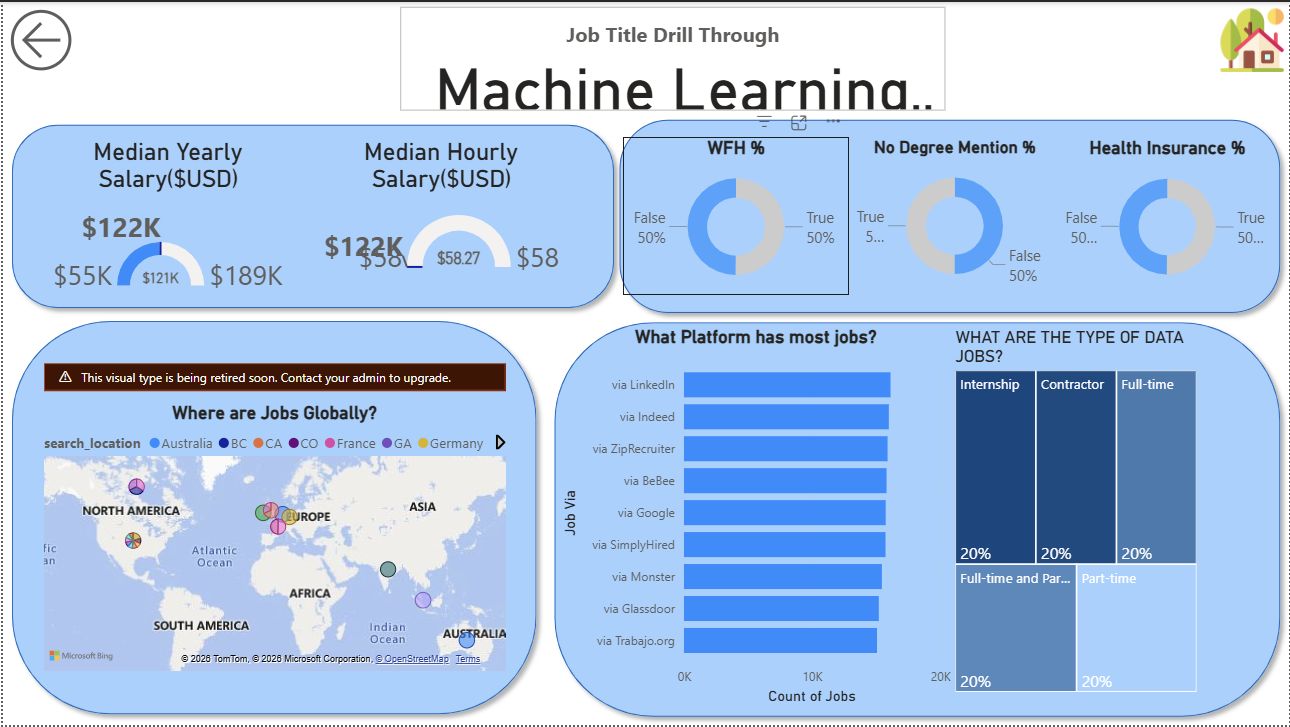

The dashboard page shown, as its layout file describes it:
{"tool":"powerbi","page":{"name":"Job Drill Through","canvas":[1280,720],"ordinal":1},"visuals":[{"type":"group","id":"g1","title":"Background","box":[0,108.2,1280,611.7],"z":0},{"type":"shape","box":[0,113.2,617,200.3],"z":0,"group":"g1"},{"type":"cardVisual","fields":{"Data":["Min(jobs_posting_flat.job_title_short)1"]},"box":[390.6,0,552.3,113.2],"z":1000},{"type":"shape","box":[604.6,108.2,675.5,210.2],"z":1000,"group":"g1"},{"type":"actionButton","box":[0,0,107,75.9],"z":2000},{"type":"shape","box":[0,308.5,539.9,409.3],"z":2000,"group":"g1"},{"type":"gauge","title":"Median Yearly Salary($USD)","fields":{"Y":["Median(jobs_posting_flat.salary_year_avg)"],"MinValue":["Min(jobs_posting_flat.salary_year_avg)1"],"MaxValue":["Max(jobs_posting_flat.salary_year_avg)2"],"TargetValue":["Avg(jobs_posting_flat.salary_year_avg)3"]},"box":[19.9,134.3,288.6,158],"z":3000},{"type":"shape","box":[539.9,309.4,740.2,410.5],"z":3000,"group":"g1"},{"type":"gauge","title":"Median Hourly Salary($USD)","fields":{"TargetValue":["Avg(jobs_posting_flat.salary_year_avg)3"],"Y":["Median(jobs_posting_flat.salary_hour_avg)"],"MinValue":["Median(jobs_posting_flat.salary_hour_avg)"],"MaxValue":["Median(jobs_posting_flat.salary_hour_avg)"]},"box":[308.5,134.3,255,158],"z":4000},{"type":"donutChart","title":"WFH %","fields":{"Category":["jobs_posting_flat.job_work_from_home"],"Y":["CountNonNull(jobs_posting_flat.job_work_from_home)"]},"box":[617,134.3,225.2,158],"z":5000},{"type":"donutChart","title":"No Degree Mention %","fields":{"Category":["jobs_posting_flat.job_no_degree_mention"],"Y":["CountNonNull(jobs_posting_flat.job_work_from_home)"]},"box":[842.2,134.3,210.2,158],"z":6000},{"type":"donutChart","title":"Health Insurance %","fields":{"Category":["jobs_posting_flat.job_health_insurance"],"Y":["CountNonNull(jobs_posting_flat.job_work_from_home)"]},"box":[1052.4,134.3,212.7,158],"z":7000},{"type":"map","title":"Where are Jobs Globally?","fields":{"Category":["jobs_posting_flat.job_country"],"Size":["CountNonNull(jobs_posting_flat.job_title_short)"],"Series":["jobs_posting_flat.search_location"]},"box":[36.1,359.5,469,311],"z":8000},{"type":"treemap","title":"WHAT ARE THE TYPE OF DATA JOBS?","fields":{"Group":["jobs_posting_flat.job_schedule_type"],"Values":["CountNonNull(jobs_posting_flat.job_schedule_type)"]},"box":[942.9,323.4,250,368.2],"z":9000},{"type":"barChart","title":"What Platform has most jobs?","fields":{"Category":["jobs_posting_flat.job_via"],"Y":["CountNonNull(jobs_posting_flat.job_title_short)"]},"box":[551.1,322.2,396.8,381.9],"z":10000}]}

Visuals, with their boxes in screenshot pixels (x1, y1, x2, y2), scaled from the page's 1280x720 canvas onto the 1290x727 screenshot:
"Background" group: (left=0, top=109, right=1289, bottom=726)
shape: (left=0, top=114, right=622, bottom=317)
cardVisual - Min(jobs_posting_flat.job_title_short)1: (left=394, top=0, right=950, bottom=114)
shape: (left=609, top=109, right=1289, bottom=321)
actionButton: (left=0, top=0, right=108, bottom=77)
shape: (left=0, top=311, right=544, bottom=725)
"Median Yearly Salary($USD)" gauge: (left=20, top=136, right=311, bottom=295)
shape: (left=544, top=312, right=1289, bottom=726)
"Median Hourly Salary($USD)" gauge: (left=311, top=136, right=568, bottom=295)
"WFH %" donutChart: (left=622, top=136, right=849, bottom=295)
"No Degree Mention %" donutChart: (left=849, top=136, right=1061, bottom=295)
"Health Insurance %" donutChart: (left=1061, top=136, right=1275, bottom=295)
"Where are Jobs Globally?" map: (left=36, top=363, right=509, bottom=677)
"WHAT ARE THE TYPE OF DATA JOBS?" treemap: (left=950, top=327, right=1202, bottom=698)
"What Platform has most jobs?" barChart: (left=555, top=325, right=955, bottom=711)
